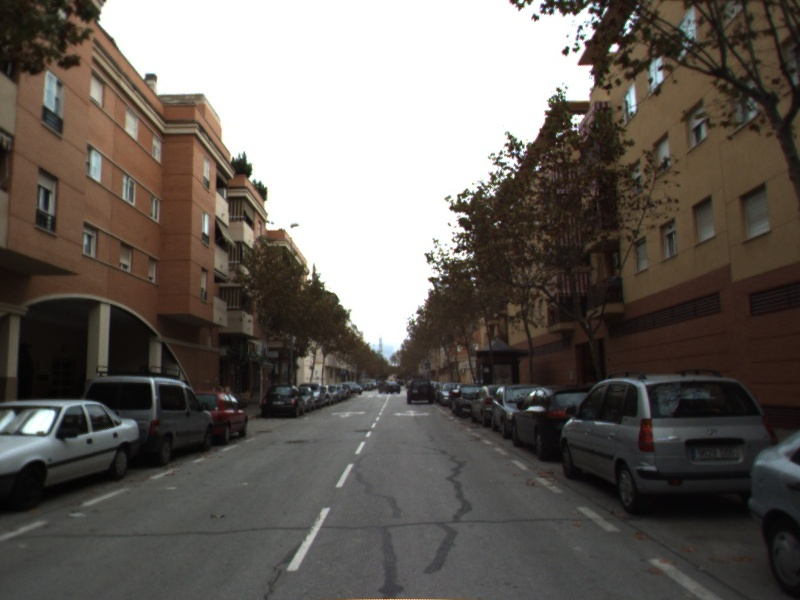STRAIGHT_LEFT_RIGHT: (392, 407, 433, 419)
